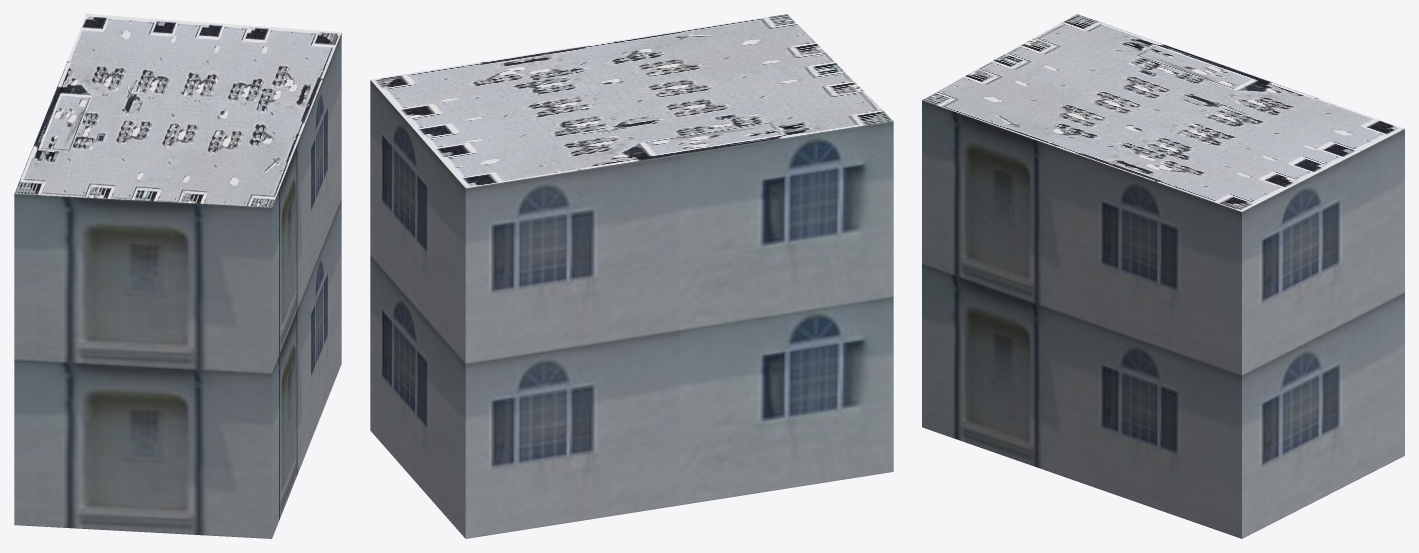
The model's file is ResTex__2923.fbx.
The picture shows the model from 3 angles, left to right: view 1: azimuth 30°, elevation 25°; view 2: azimuth 150°, elevation 25°; view 3: azimuth 270°, elevation 25°; orthographic projection. The views are drawn at different scales.
Parts seen in each view (by area): view 1: CityEngineMaterial_17_m, CityEngineMaterial_4_m; view 2: CityEngineMaterial_17_m, CityEngineMaterial_4_m; view 3: CityEngineMaterial_17_m, CityEngineMaterial_4_m.
Boxes of the visible parts, x1,y1,x2,y2 form: CityEngineMaterial_17_m: (14, 33, 341, 538); CityEngineMaterial_4_m: (14, 14, 341, 207); CityEngineMaterial_17_m: (370, 80, 893, 538); CityEngineMaterial_4_m: (370, 14, 893, 188); CityEngineMaterial_17_m: (922, 100, 1404, 538); CityEngineMaterial_4_m: (922, 14, 1404, 211).
Size of the model in its own units: 7.79 by 6 by 8.03.
2 materials, 2 textured.
